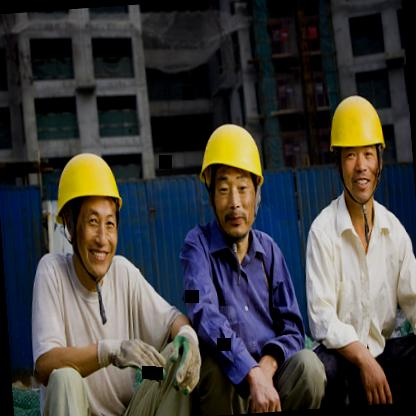helmet: (46, 138, 137, 288), (190, 104, 276, 250), (318, 75, 400, 216)
